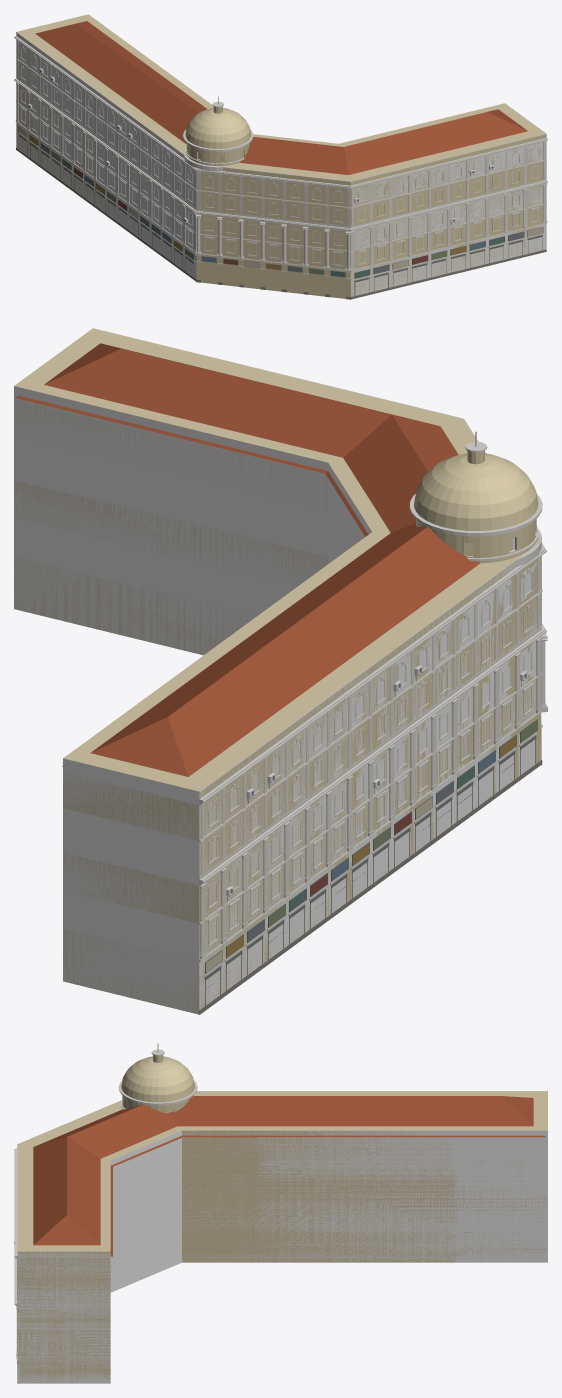
Rendered from HERO_GreenCourt_A.glb.
3 views of the same model, one above another, from view 1: azimuth 30°, elevation 25°; view 2: azimuth 150°, elevation 25°; view 3: azimuth 270°, elevation 25° (orthographic). The views are drawn at different scales.
Parts seen in each view (by area): view 1: HERO_GreenCourt_A_LOD0, HERO_GreenCourt_A_Far, HERO_GreenCourt_A_COL; view 2: HERO_GreenCourt_A_COL, HERO_GreenCourt_A_LOD0, HERO_GreenCourt_A_Far; view 3: HERO_GreenCourt_A_COL, HERO_GreenCourt_A_Far, HERO_GreenCourt_A_LOD0.
Boxes of the visible parts, left/top/right/bottom form: HERO_GreenCourt_A_LOD0: left=14, top=21, right=547, bottom=299; HERO_GreenCourt_A_Far: left=16, top=14, right=546, bottom=298; HERO_GreenCourt_A_COL: left=16, top=33, right=546, bottom=296; HERO_GreenCourt_A_COL: left=14, top=386, right=541, bottom=1014; HERO_GreenCourt_A_LOD0: left=16, top=328, right=547, bottom=1014; HERO_GreenCourt_A_Far: left=14, top=328, right=541, bottom=1014; HERO_GreenCourt_A_COL: left=17, top=1130, right=547, bottom=1383; HERO_GreenCourt_A_Far: left=17, top=1091, right=547, bottom=1383; HERO_GreenCourt_A_LOD0: left=14, top=1043, right=547, bottom=1383.
Size of what is drawn, in the model's own units: 55.45 by 31.13 by 77.32.
